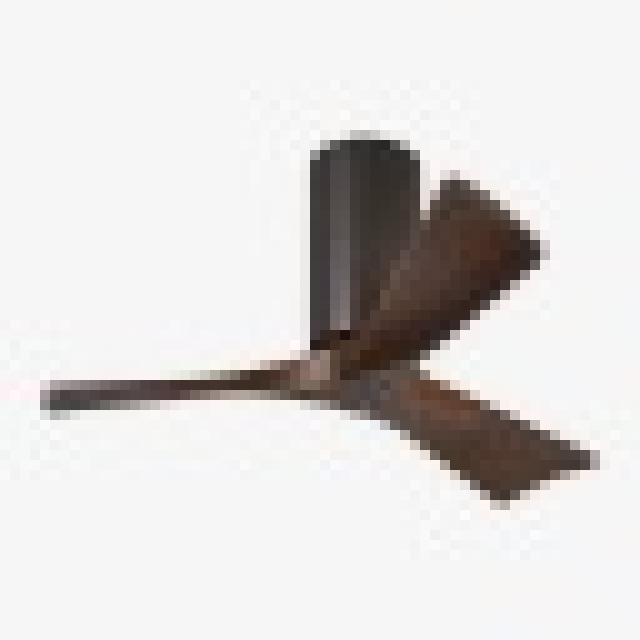Bulb: (44, 182, 640, 516)
